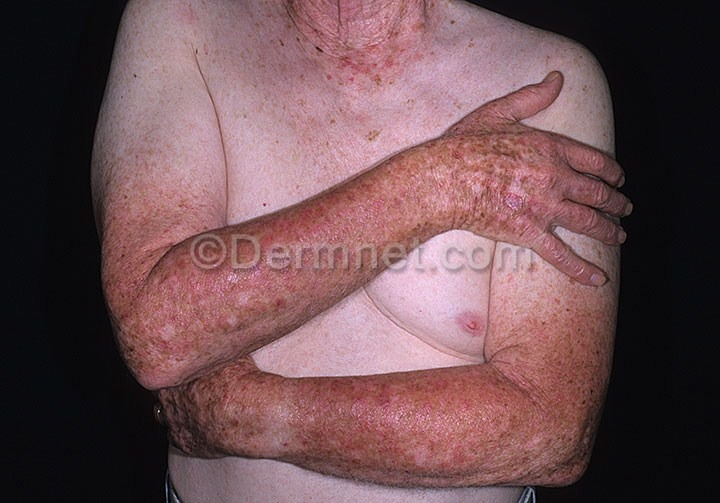Melasma: (303, 374, 590, 484), (92, 188, 190, 394), (444, 116, 533, 237), (159, 370, 274, 449), (187, 273, 296, 350), (515, 294, 606, 381), (312, 29, 442, 89)
